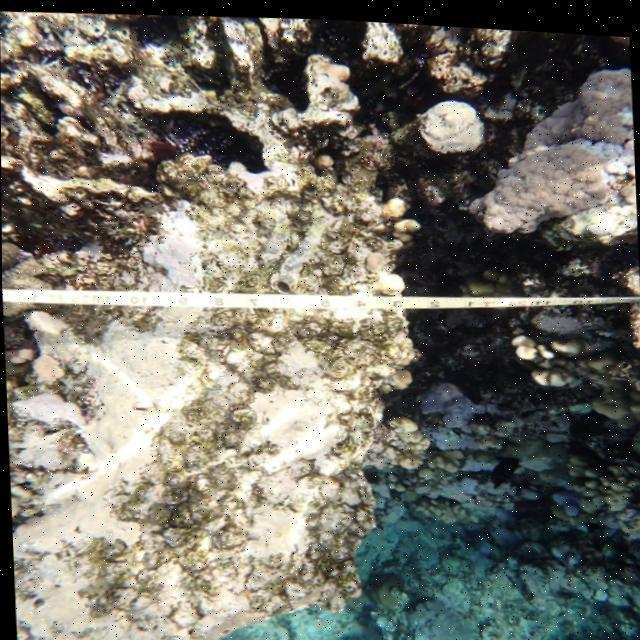Bleached Coral: (32, 345, 320, 640), (105, 193, 212, 433), (225, 330, 366, 472), (412, 81, 494, 173)
